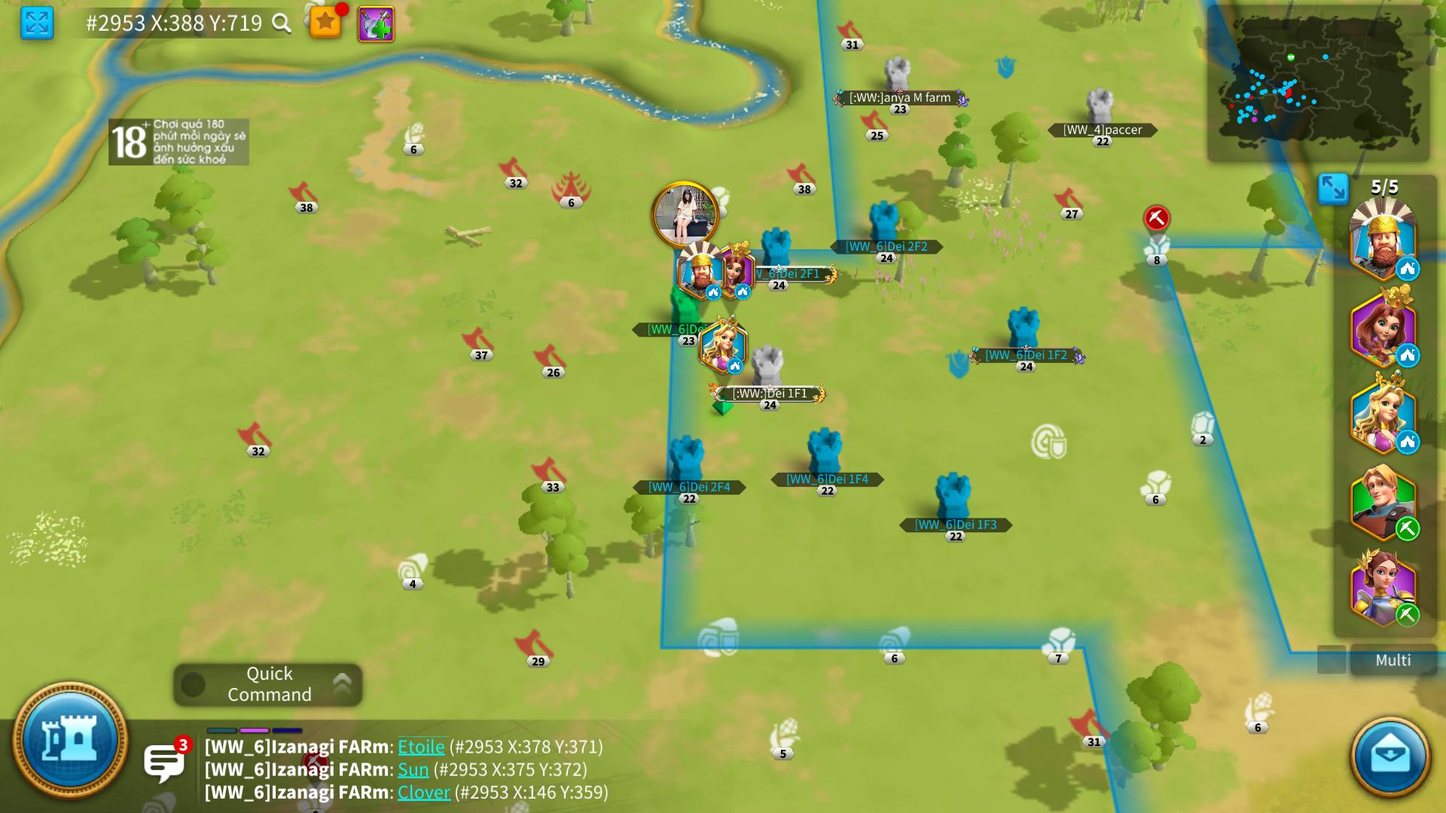gem-z-out: (1189, 409, 1216, 447)
march_idle: (1395, 343, 1421, 368), (1396, 430, 1421, 455), (1395, 256, 1420, 281)
